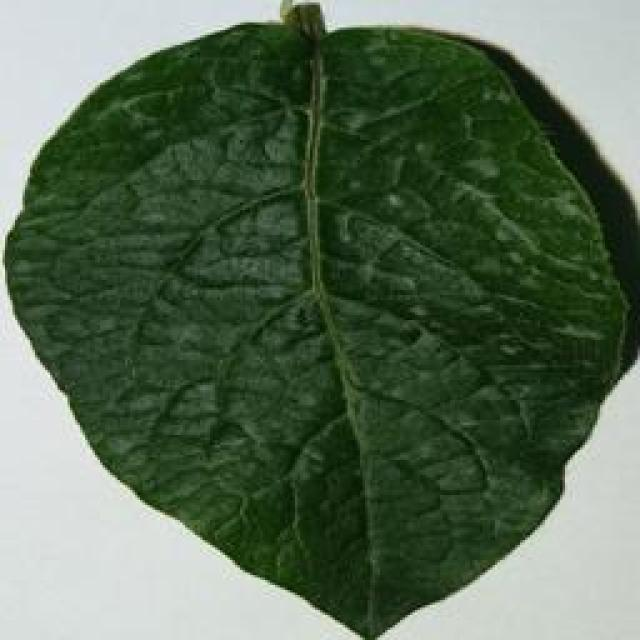Potato_Healthy: (6, 9, 623, 637)
